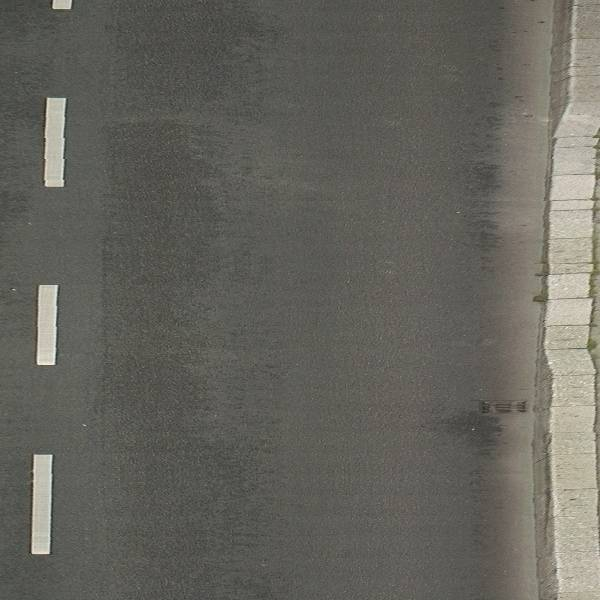road_damage: (459, 83, 504, 284), (444, 409, 508, 465)
